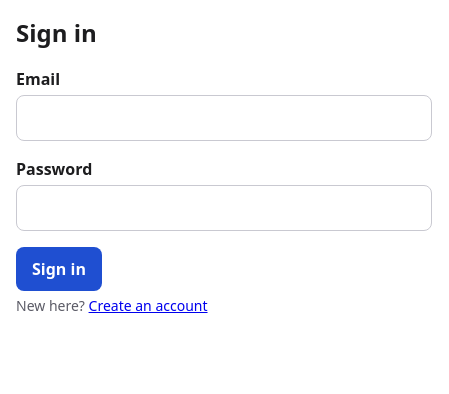
Test case: sign-in › says the email or password is wrong without saying which
Expected: the heading "Sign in" is shown, [16,16,97,49]
In the field labelled "Email": (224, 118) [16,95,432,141], type "owner@vashi.example"
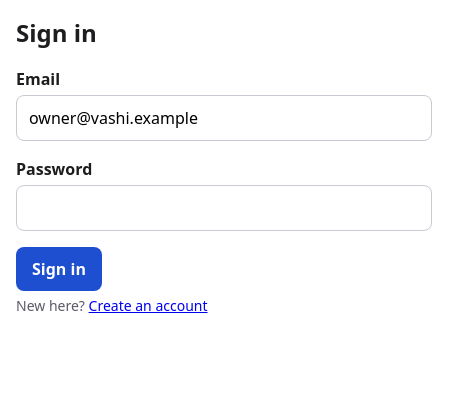
In the password field labelled "Password": (224, 208) [16,185,432,231], type "seven lamps under a bridge"
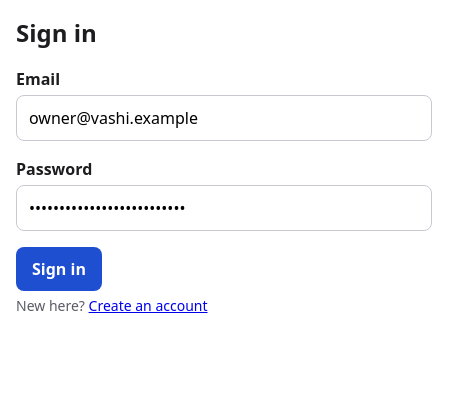
Click the button "Sign in": (59, 269) [16,247,102,291]
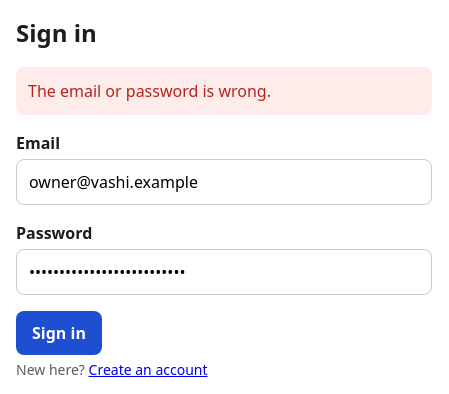
Result: the message reads "The email or password is wrong." at [28,80,271,102]
